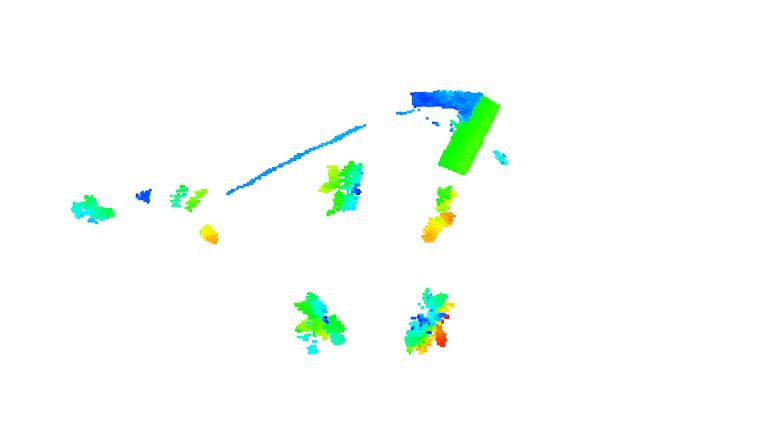chickpea: (132, 179, 222, 243), (282, 287, 342, 350), (405, 284, 456, 357), (320, 161, 377, 218), (421, 185, 472, 242), (72, 194, 117, 231)
